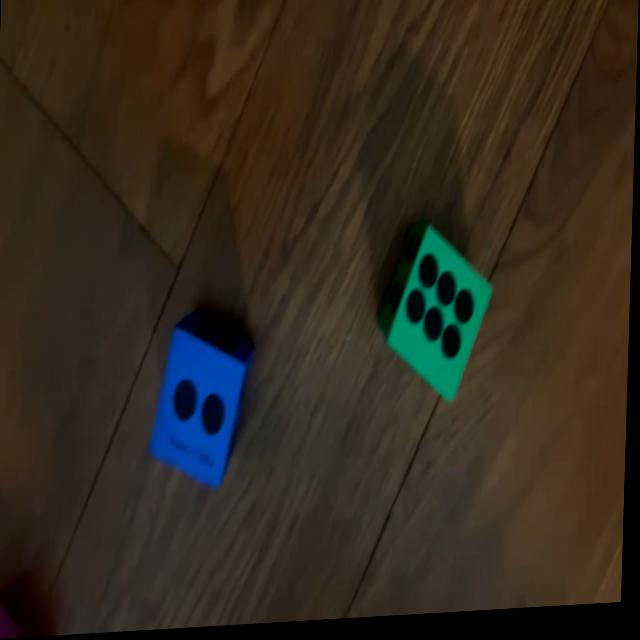blue_block: (151, 309, 258, 492)
